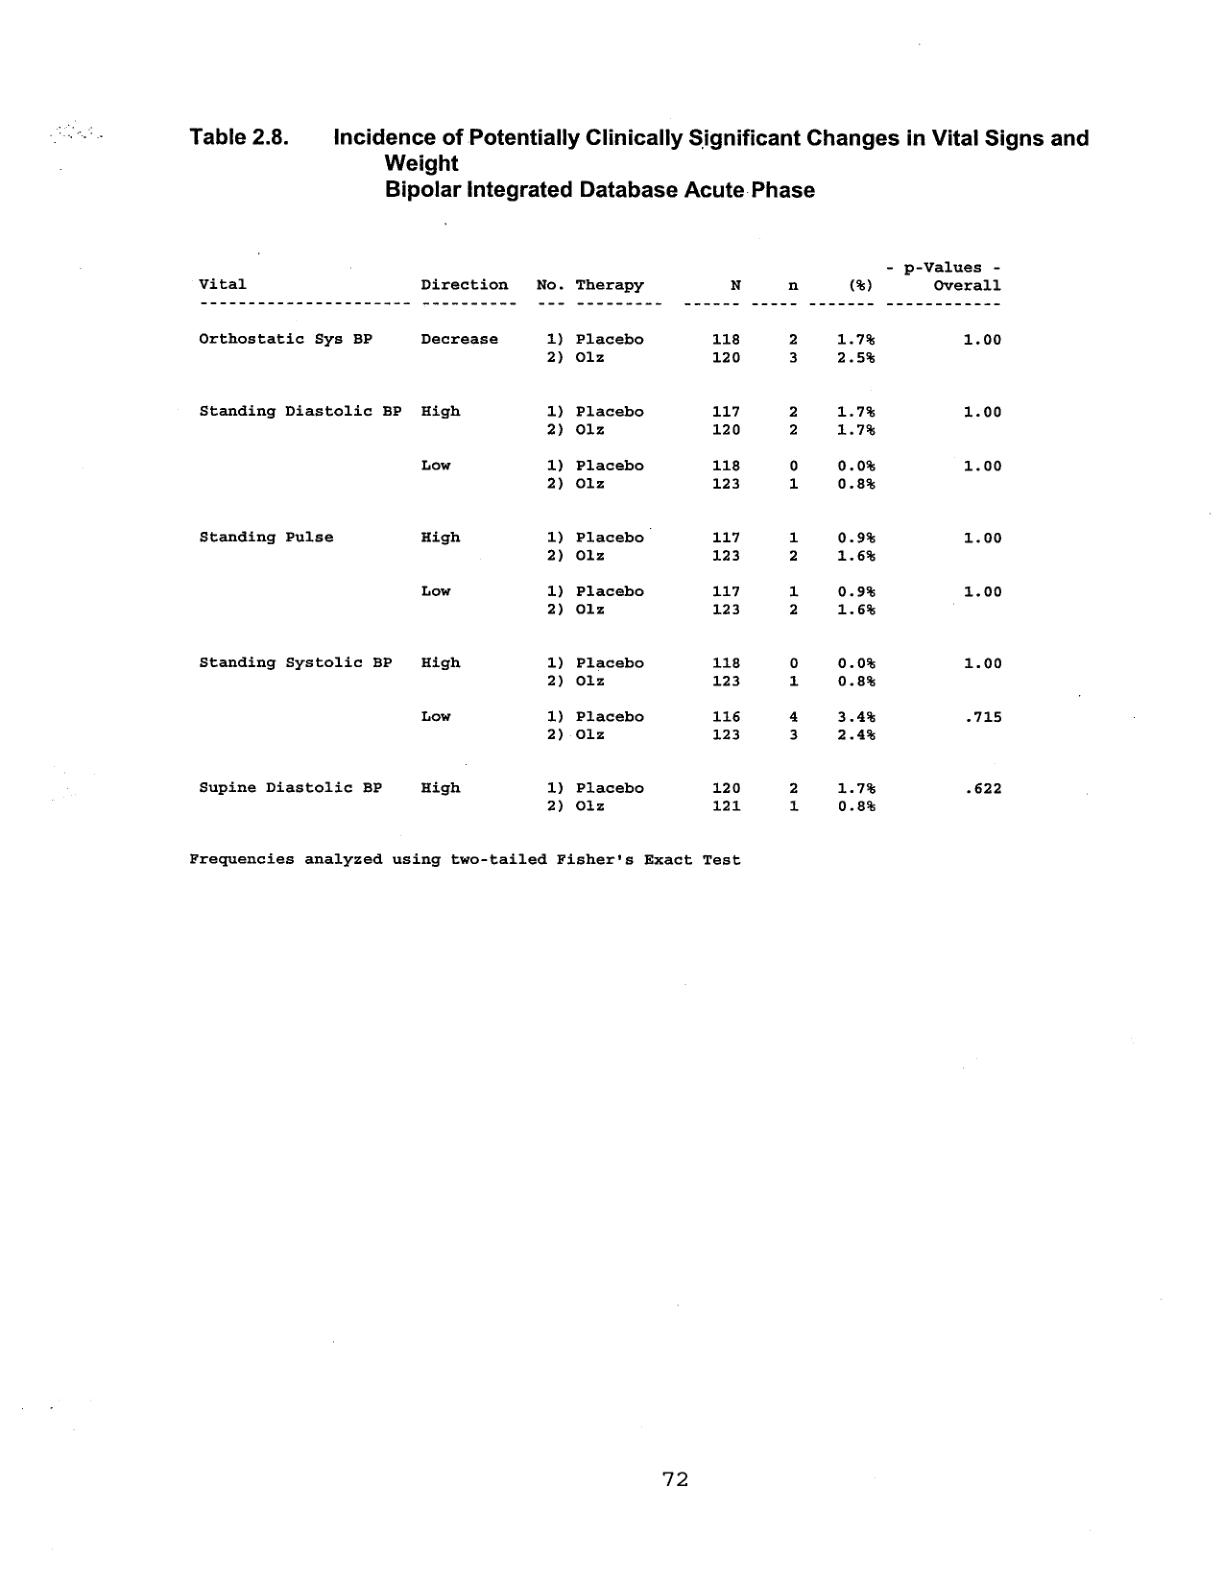nolines: (195, 259, 1004, 815)
